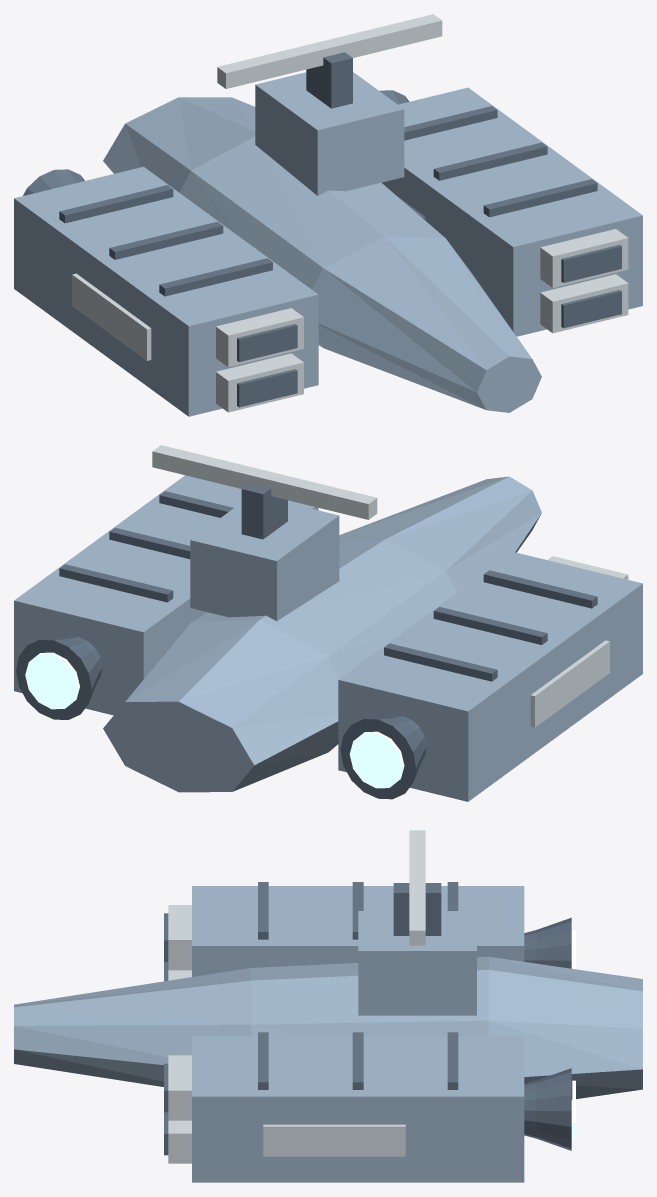
The picture shows the model from 3 angles, top to bottom: view 1: azimuth 30°, elevation 25°; view 2: azimuth 150°, elevation 25°; view 3: azimuth 270°, elevation 25°; orthographic projection. The views are drawn at different scales.
Size of the model in its own units: 8.56 by 4.34 by 10.6.
